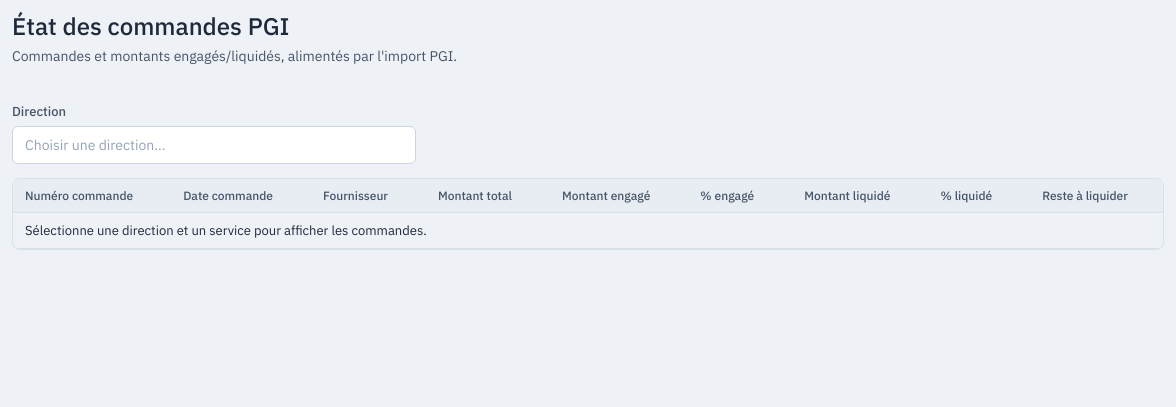
Test: CommandesPGI › la recherche filtre par numéro de commande, fournisseur ou marché
Step 1. Click the button with aria-label "Filtrer par direction" → (95, 145), box [12, 126, 416, 164]
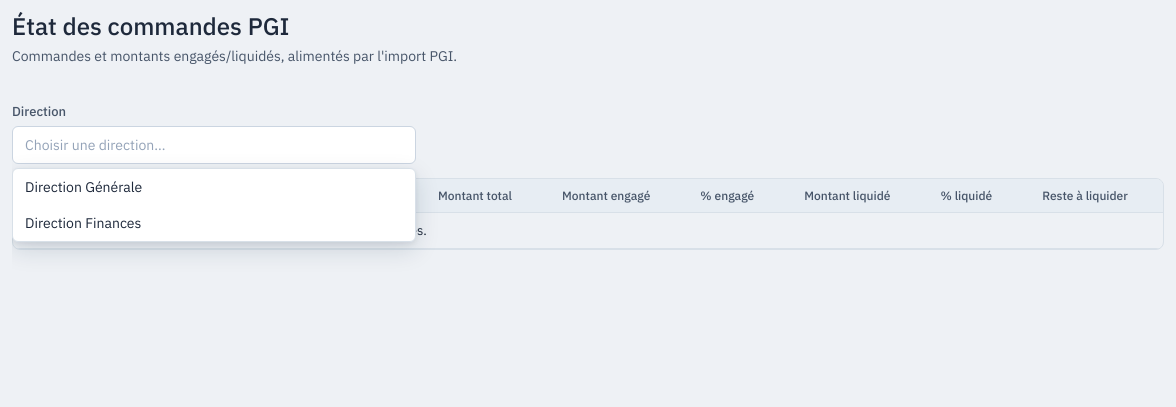
Step 2. Click the text "Direction Générale" → (84, 187), box [25, 178, 142, 196]
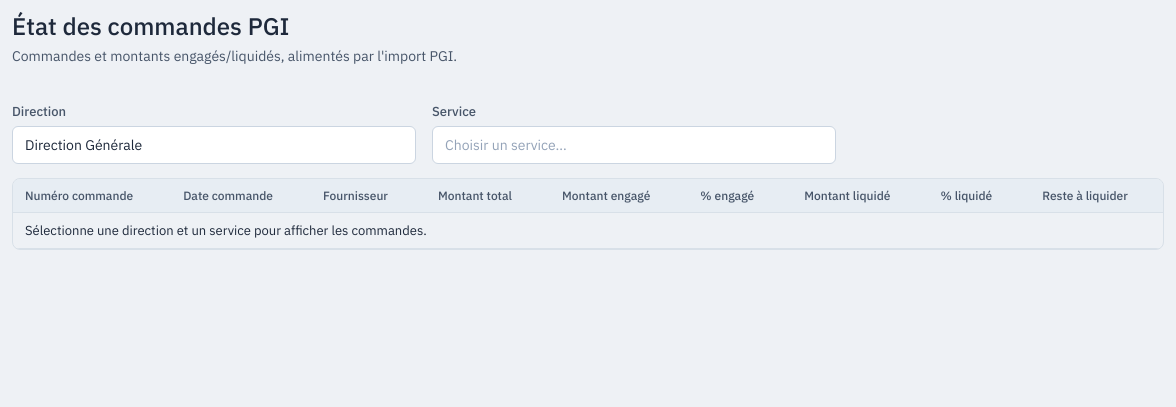
Step 3. Click the button with aria-label "Filtrer par service" → (506, 145), box [432, 126, 836, 164]
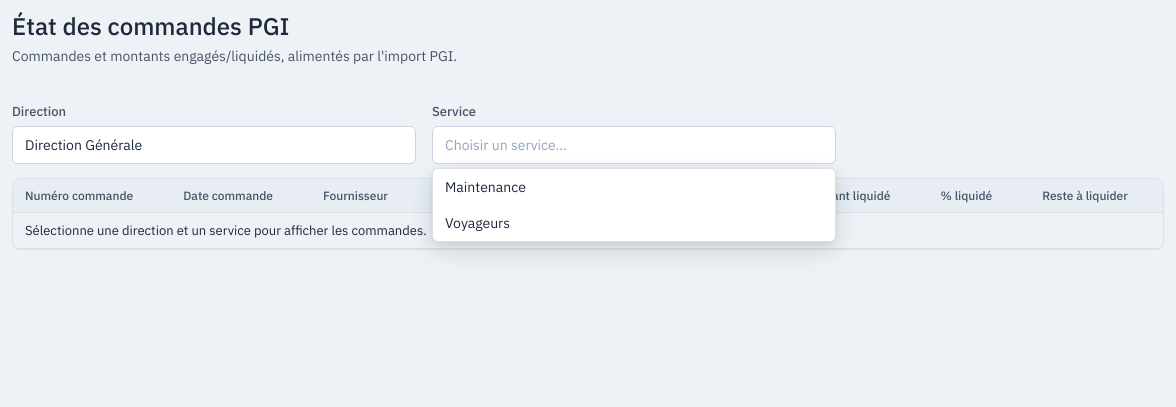
Step 4. Click the text "Maintenance" → (485, 187), box [445, 178, 526, 196]
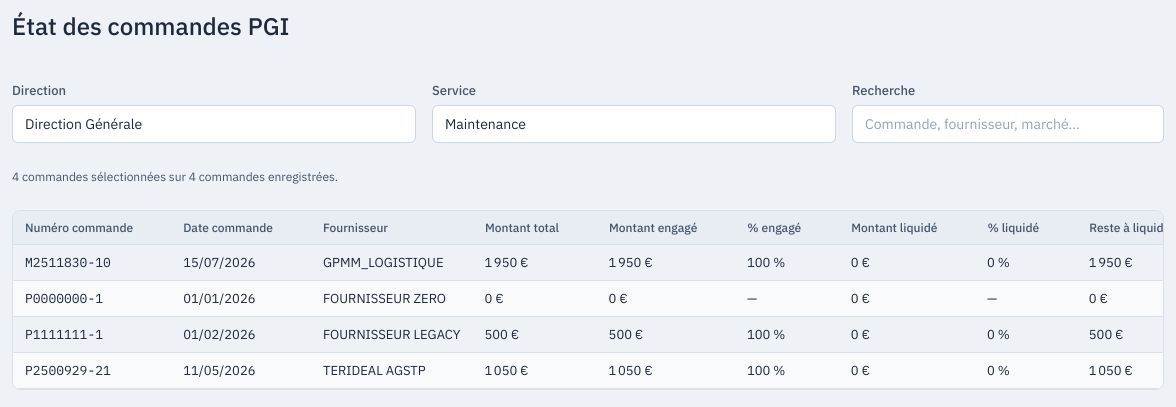
Step 5. Type "GPMM" into the field labelled "Recherche" → (1008, 124), box [852, 105, 1164, 143]
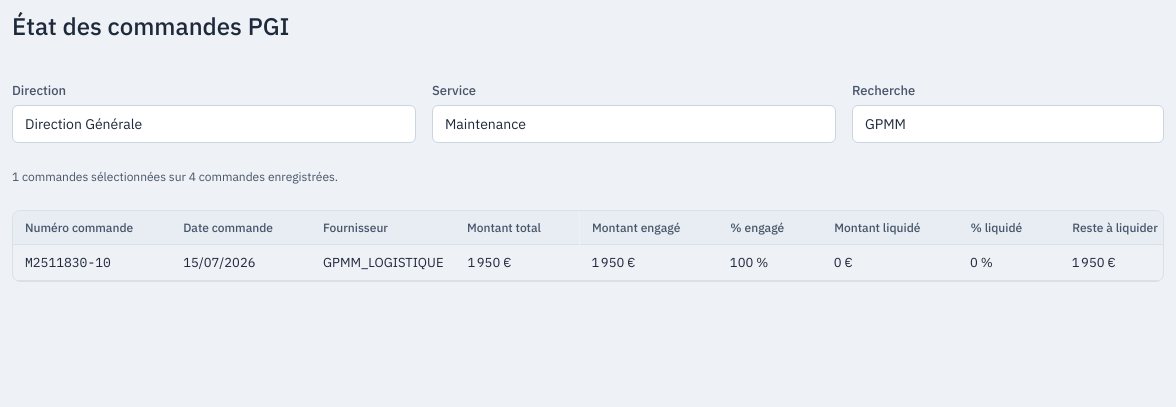
Check: the text "M2511830-10" is shown, box [13, 245, 171, 281]
Check: the text "P2500929-21" is gone
